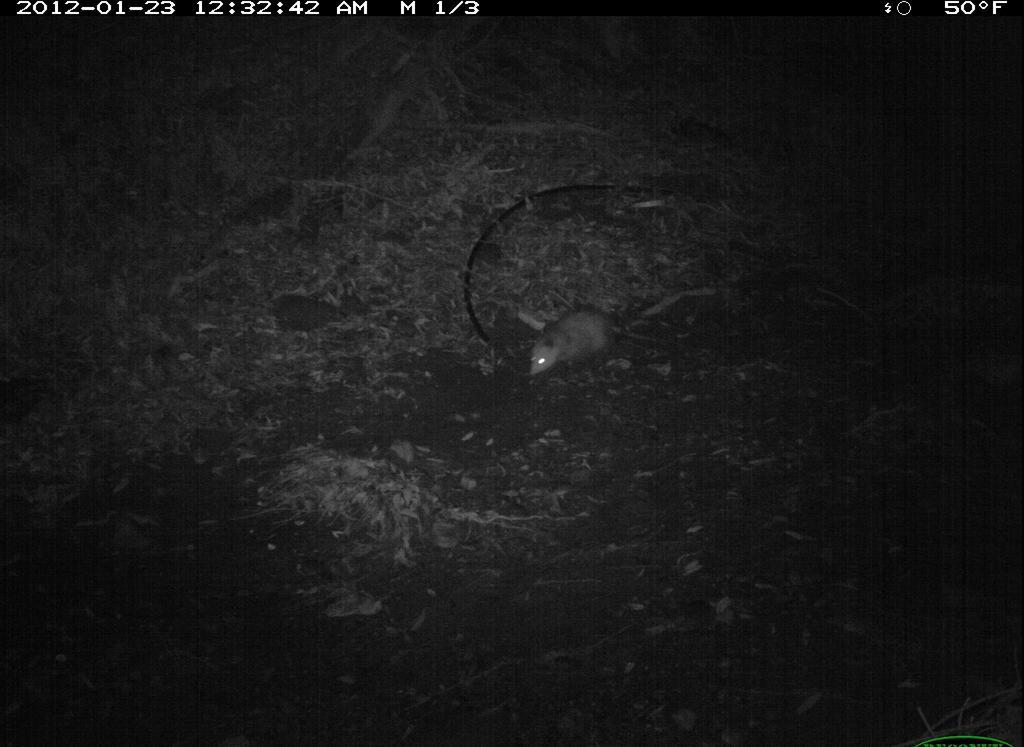opossum: (518, 297, 681, 395)
